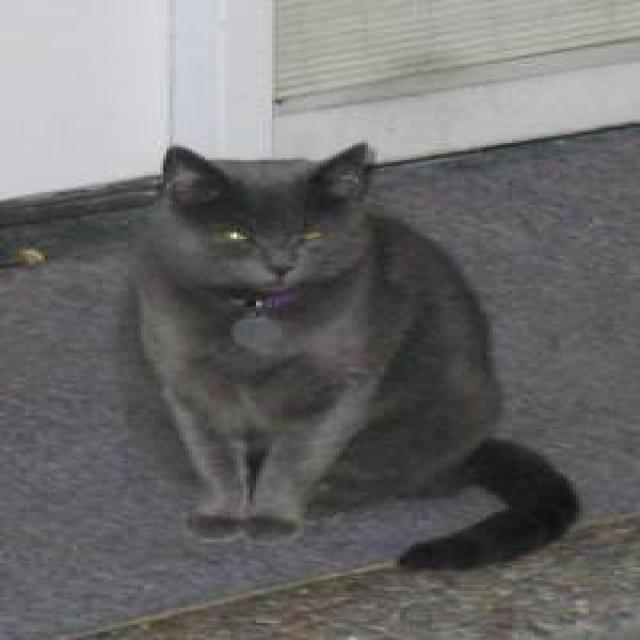Russian_Blue: (139, 132, 387, 300)
